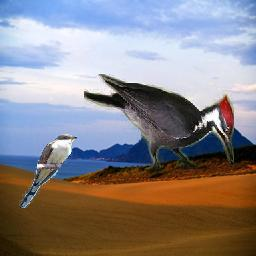Cuckoo: (19, 134, 77, 209)
Woodpecker: (84, 74, 234, 170)
